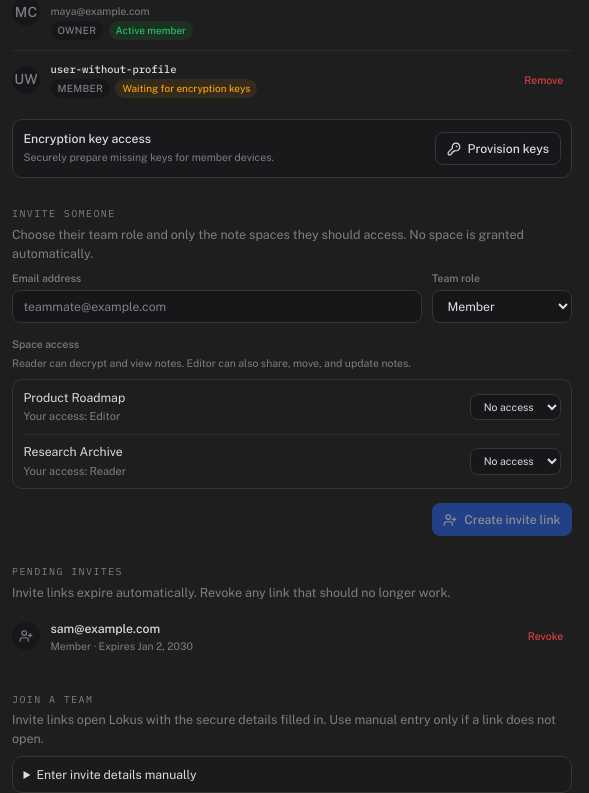
Test: TeamPreferences › revokes a pending invite from the team
(page scrolled)
Click the button with aria-label "Revoke invite for sam@example.com": (546, 636) 519,624 -> 572,649
(page scrolled)
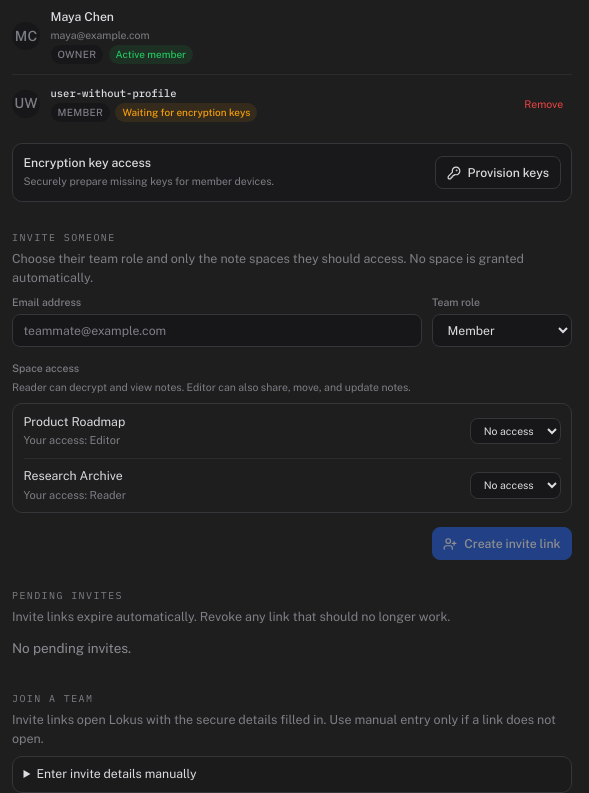
Expected: the text "sam@example.com" is gone
